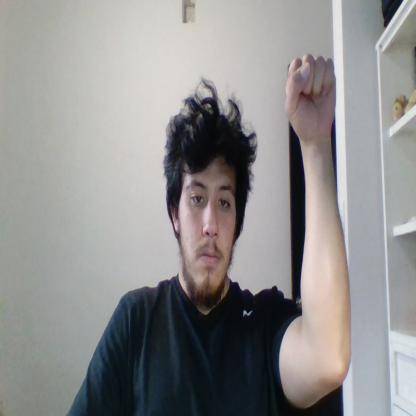S: (285, 55, 337, 139)
